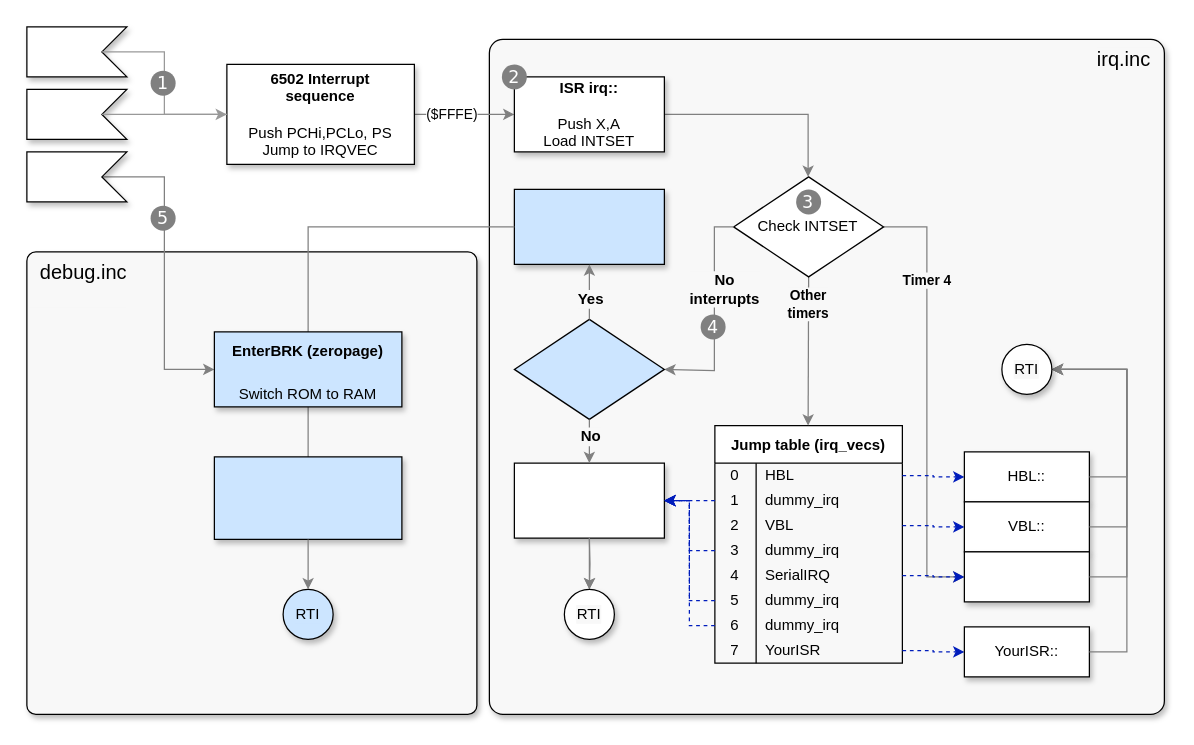
Some shapes in this 1194 by 745 pixel diagram are drawn without their labels. The shapes that lost their labels are listed below. From the top down, each one's centre as x and y in pixels, then its label:
the point at 77,53: Timer
the point at 77,115: Serial
the point at 77,178: NMI
the point at 590,228: Pull A,X Jump (BRKvec)
the point at 588,368: Check BRK
the point at 308,499: BRKserver:: ($FF00) Save all registers Send breakpoint
the point at 590,502: dummy_irq END_IRQ: Pull A,X
the point at 1027,578: SerialIRQ::
